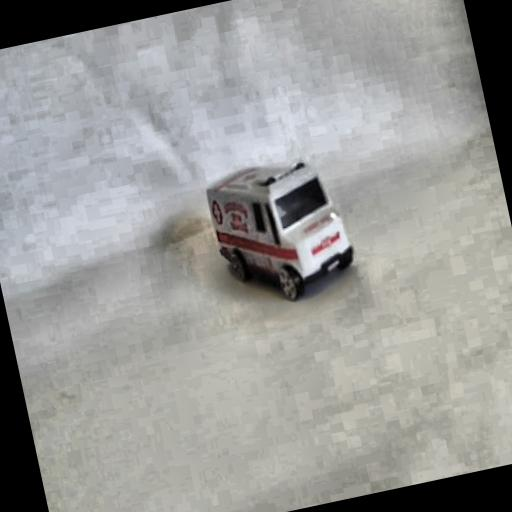ambulance: (201, 148, 360, 314)
